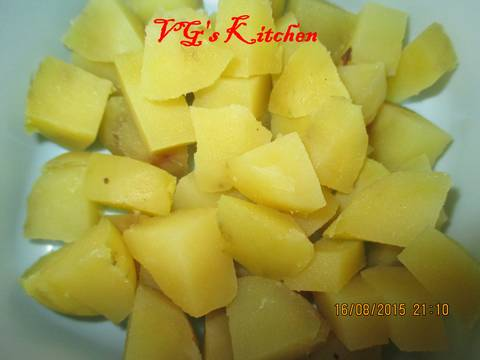boiled potatoes: (47, 11, 463, 356)
